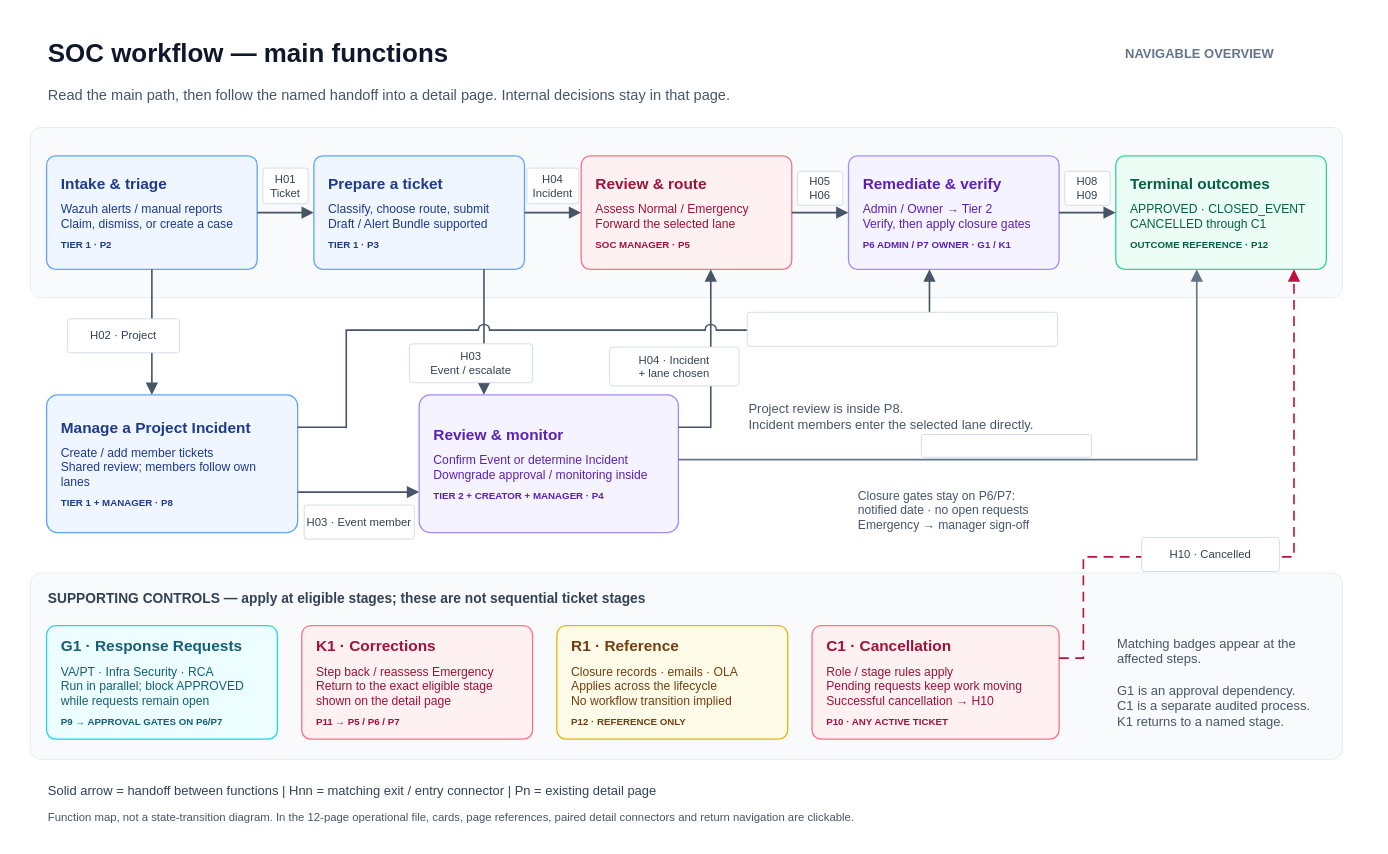
The diagram is 1388 pixels wide and 854 high, and some of its shapes have lost their labels. The shapes that lost their labels are listed below. From the top down, each one's box as (x1, y1, x2, y2) in pixels, then its label:
(746, 311, 1057, 346): H05 / H06 · Incident members after project review
(921, 434, 1091, 457): H07 · Event confirmed
